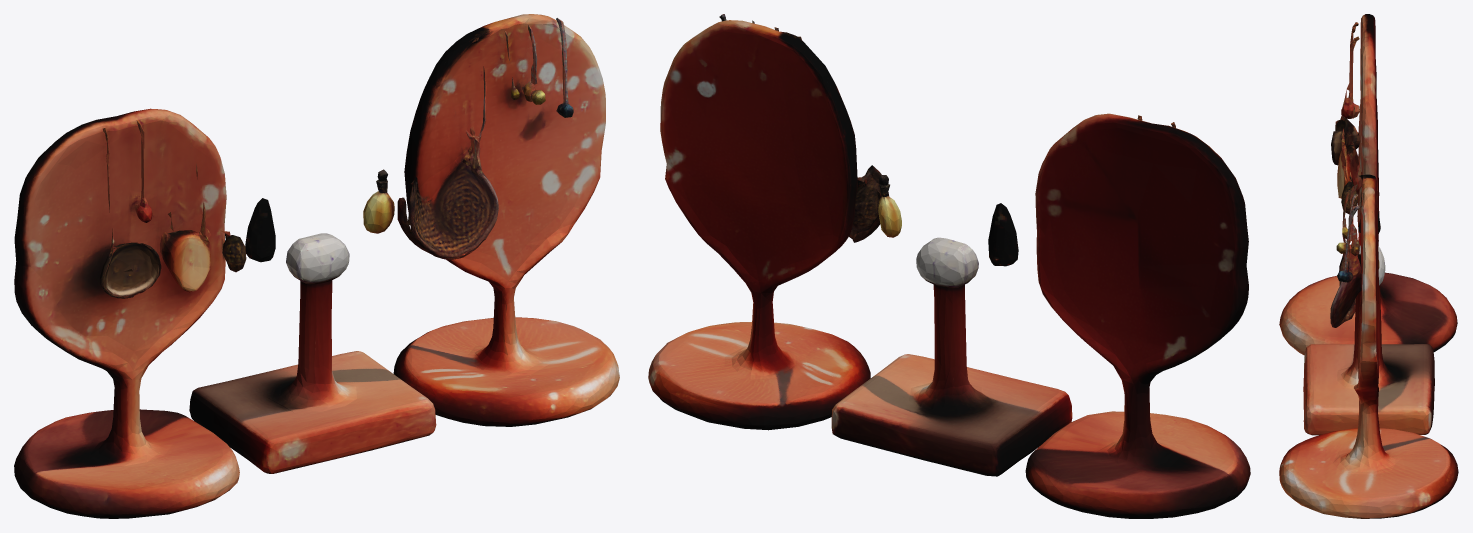
Rendered from ceramic-jewelry-stand-rustic.jpeg.glb.
3 renders of one model, left to right at view 1: azimuth 30°, elevation 25°; view 2: azimuth 150°, elevation 25°; view 3: azimuth 270°, elevation 25°, orthographic. The views are drawn at different scales.
Visible parts, largest first — view 1: world; view 2: world; view 3: world.
Boxes of the visible parts, box(x1,y1,x2,y2) form: world: box(14, 14, 619, 518); world: box(648, 14, 1250, 518); world: box(1279, 14, 1458, 518).
Size of the model in its own units: 0.9996 by 0.5894 by 0.3213.
Materials: 1 (1 with a texture image).
